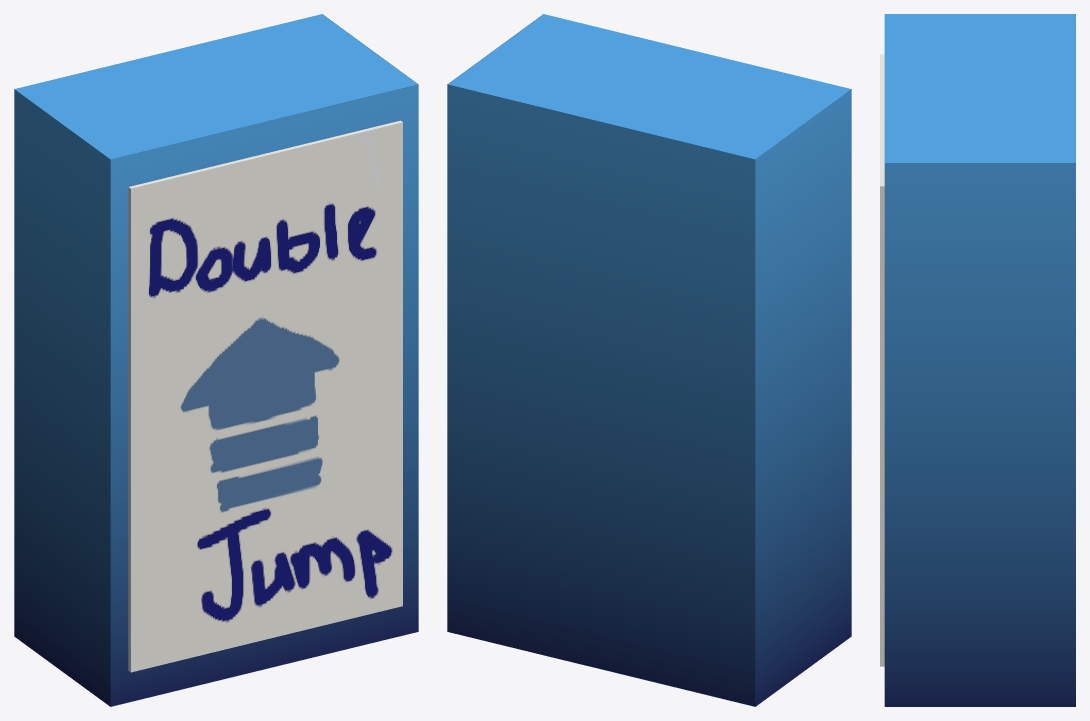
File: Double Jump Upgrade.glb
The picture shows the model from 3 angles, left to right: view 1: azimuth 30°, elevation 25°; view 2: azimuth 150°, elevation 25°; view 3: azimuth 270°, elevation 25°; orthographic projection.
Visible parts, largest first — view 1: Cube.001, Cube; view 2: Cube; view 3: Cube, Cube.001.
Boxes of the visible parts, left/top/right/bottom form: Cube.001: left=128, top=120, right=402, bottom=672; Cube: left=14, top=14, right=418, bottom=706; Cube: left=447, top=14, right=851, bottom=706; Cube: left=884, top=14, right=1075, bottom=706; Cube.001: left=880, top=54, right=884, bottom=666.
Size of the model in its own units: 1.07 by 1.81 by 0.5908.
Materials: 2 (2 with a texture image).
